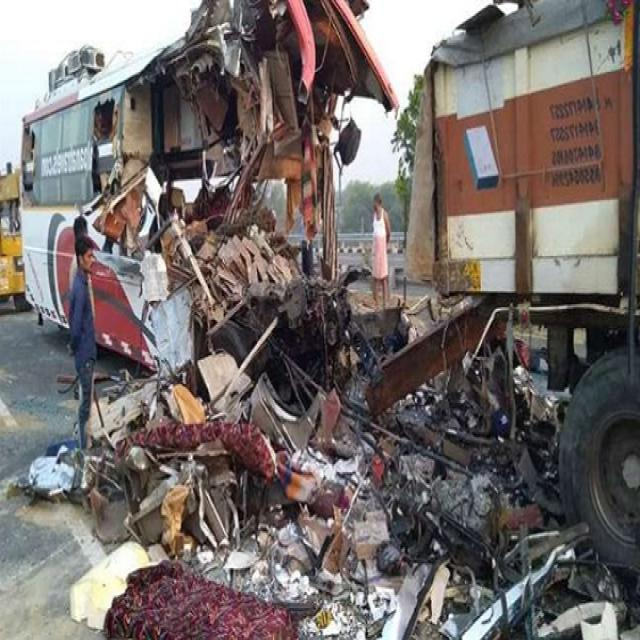accident: (20, 0, 398, 371)
